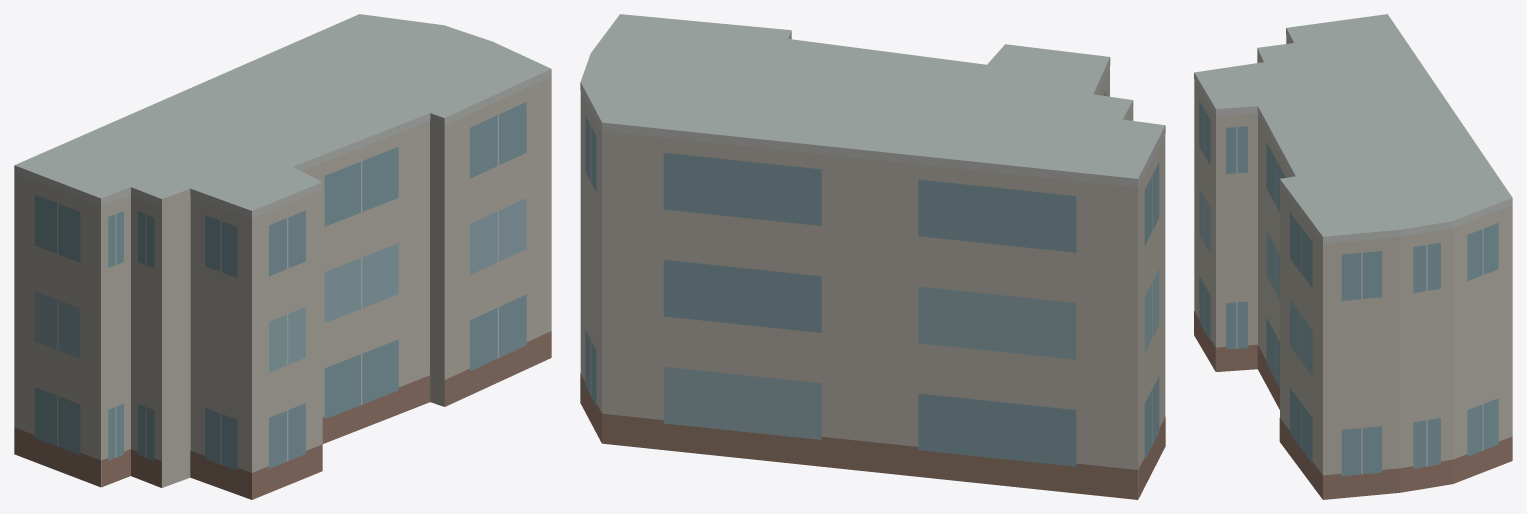
The model's file is survey-upis-33010889.glb.
3 renders of one model, left to right at view 1: azimuth 30°, elevation 25°; view 2: azimuth 150°, elevation 25°; view 3: azimuth 270°, elevation 25°, orthographic. The views are drawn at different scales.
Visible parts, largest first — view 1: survey-upis-33010889.tmp; view 2: survey-upis-33010889.tmp; view 3: survey-upis-33010889.tmp.
Part boxes in pixels (bbox=[...]): survey-upis-33010889.tmp: bbox=[14, 14, 551, 499]; survey-upis-33010889.tmp: bbox=[580, 14, 1165, 499]; survey-upis-33010889.tmp: bbox=[1194, 14, 1512, 499].
Size of the model in its own units: 16.64 by 9.15 by 10.05.
